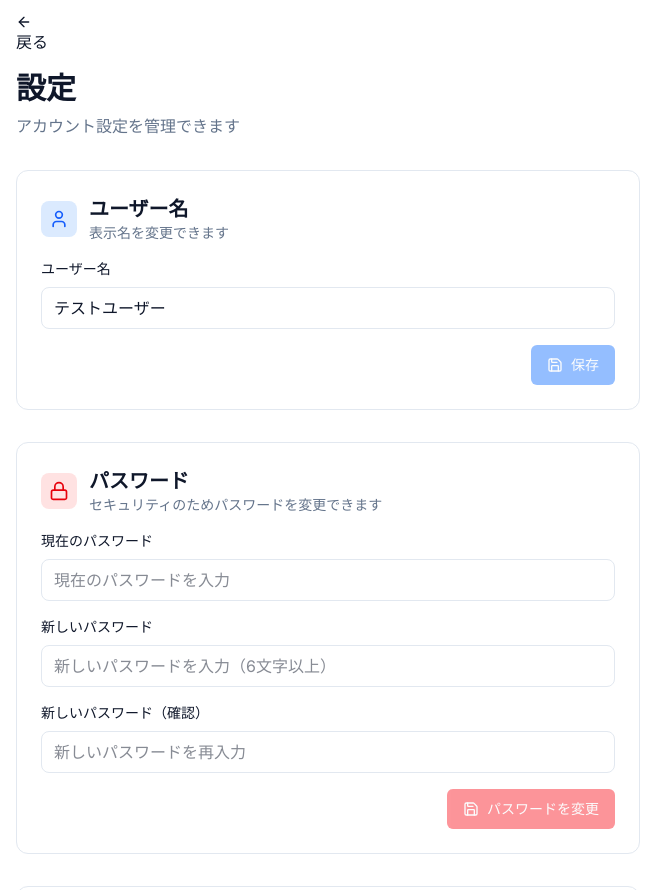
SettingsPage › should enable save button when username is changed
Expected: the button "保存" is disabled, [531,345,615,385]
Change username
Replace the text in the field labelled "ユーザー名" with "新しいユーザー名" at (328, 308), box [41,287,615,329]
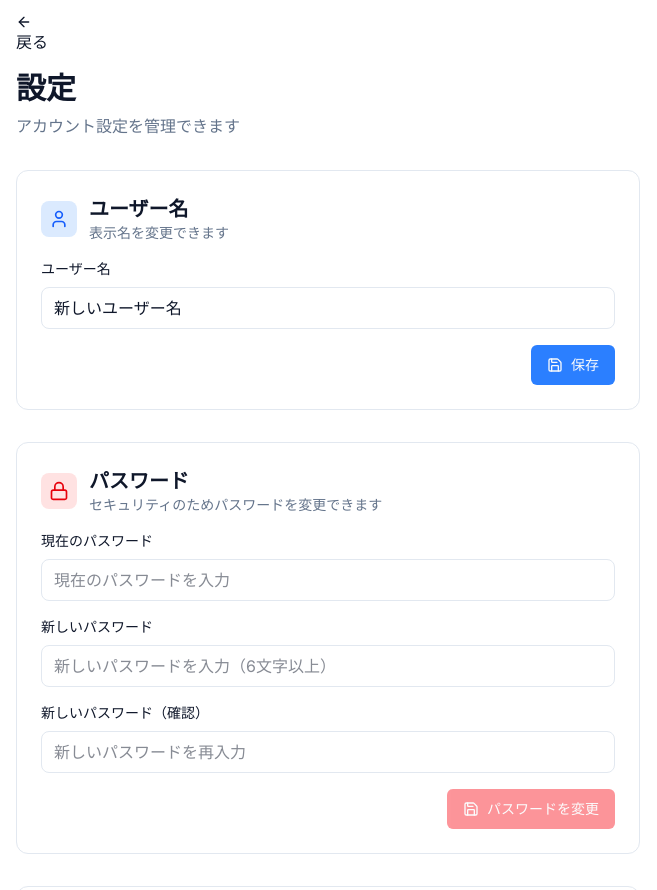
Expected: the button "保存" is enabled, [531,345,615,385]
